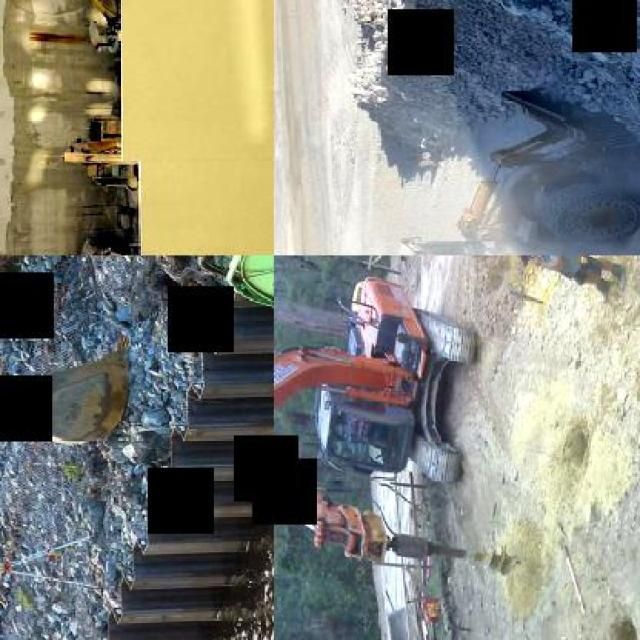buldozerpayloadergrader: (388, 80, 638, 254)
excavator: (274, 275, 523, 594), (150, 256, 272, 538), (57, 116, 140, 190), (86, 0, 125, 62)
